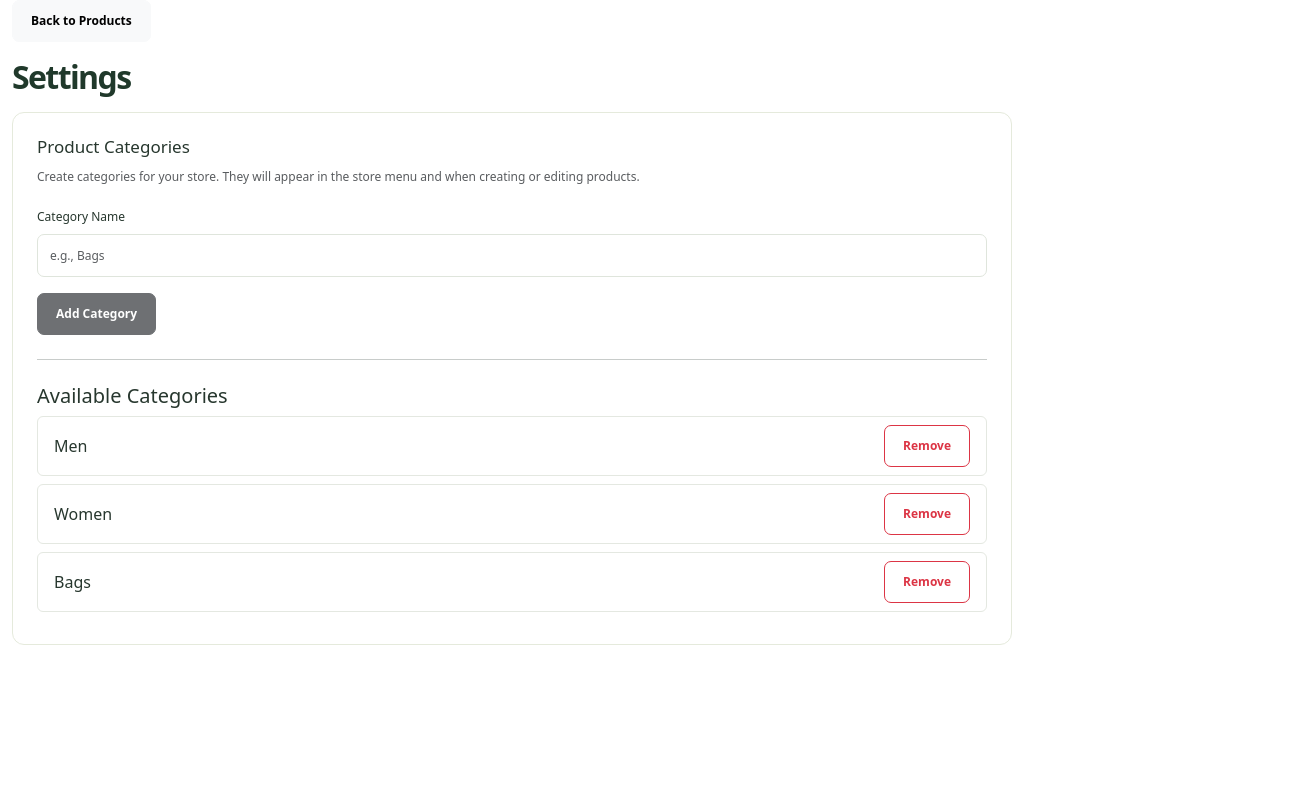
Test: settings creates a category, clears the form, and confirms success
The image size is (1292, 800).
Type "  Travel Bags  " into the field labelled "Category Name" at (512, 256), box left=37, top=234, right=987, bottom=277
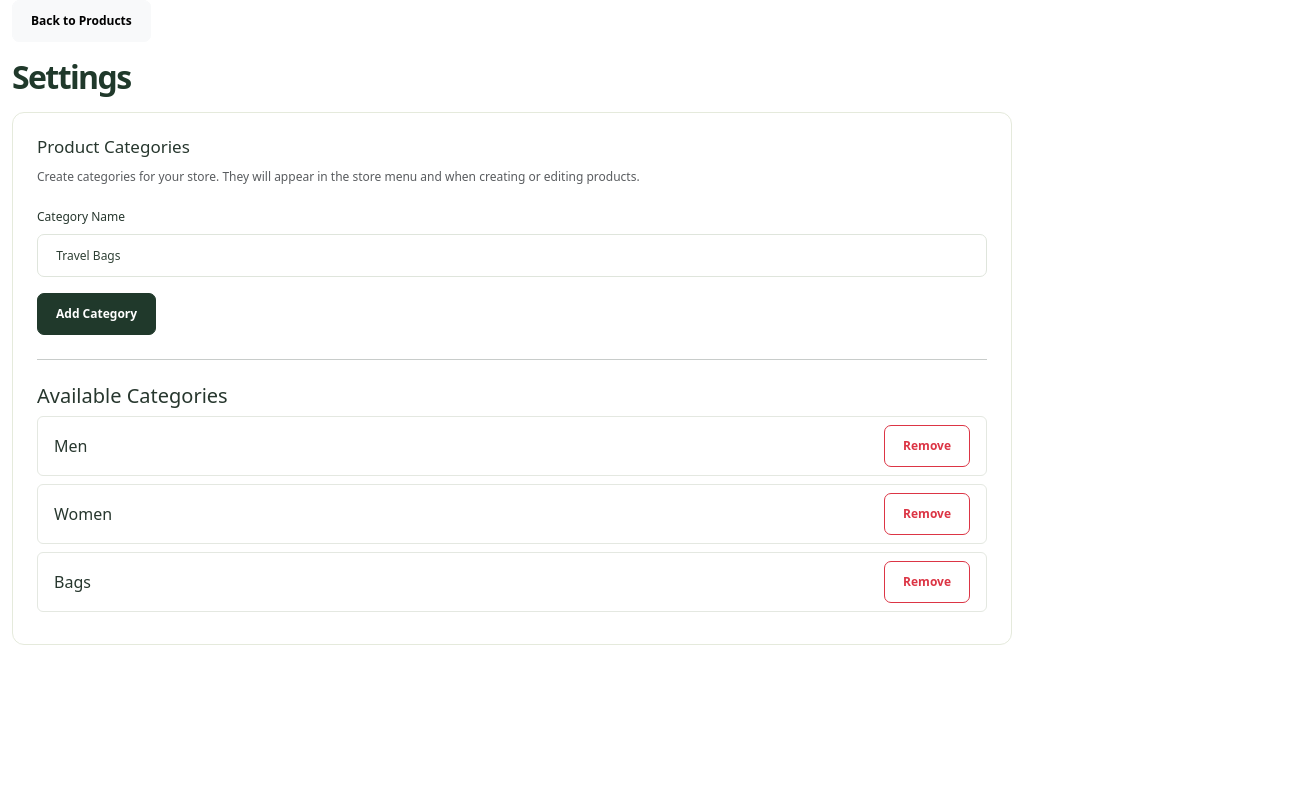
Click the button "Add Category" at (97, 314), box left=37, top=293, right=156, bottom=335
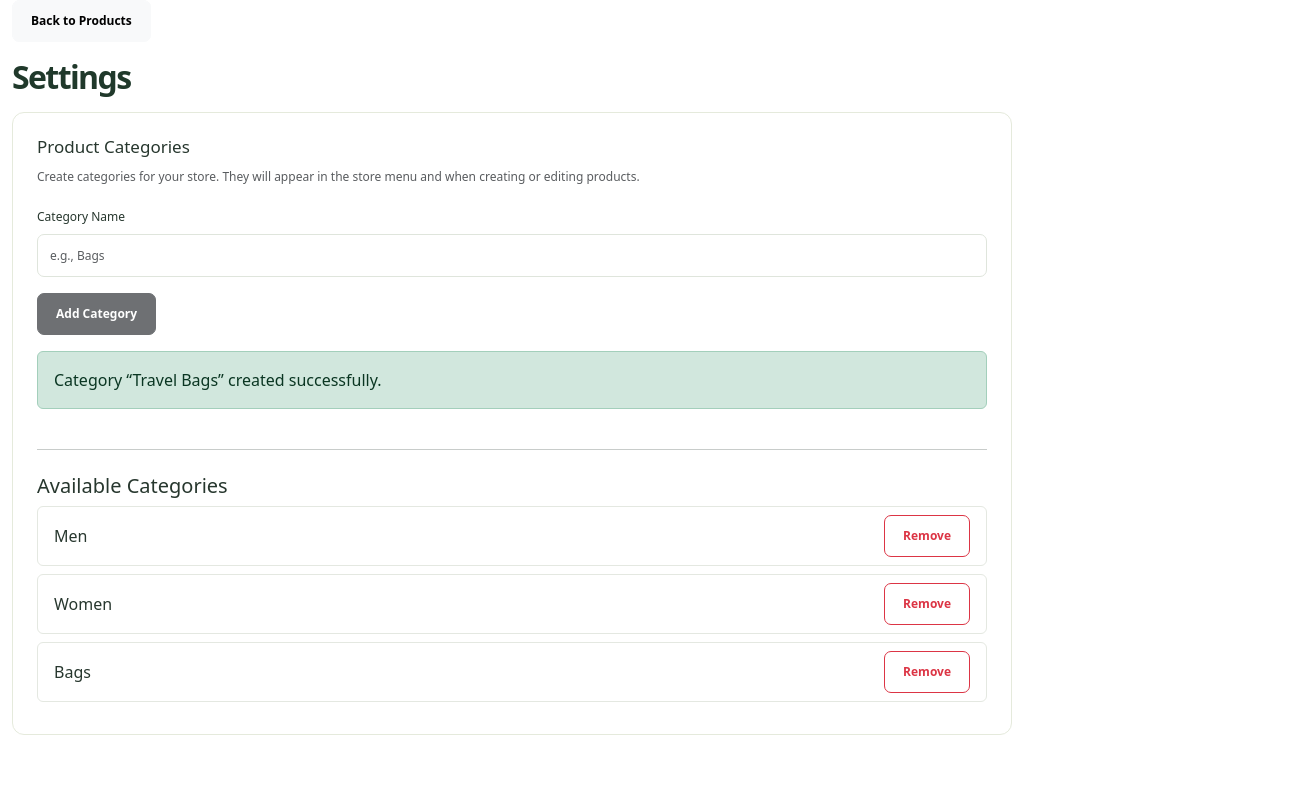
expect the field labelled "Category Name" is empty: met, box left=37, top=234, right=987, bottom=277
expect the text "Category “Travel Bags” created successfully." is shown: met, box left=37, top=351, right=987, bottom=409
